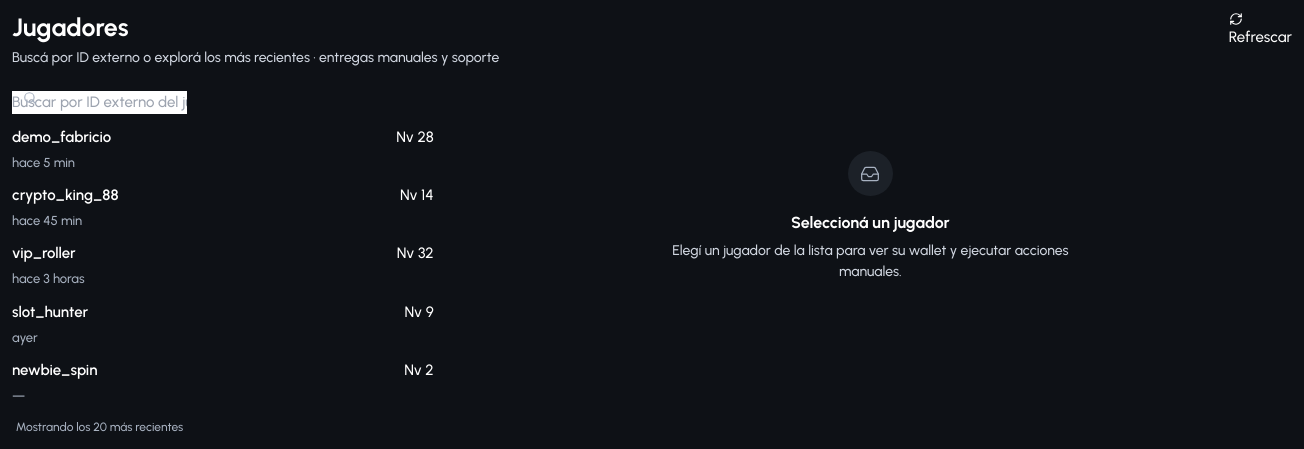
Test: PlayersPage search › limpia búsqueda con botón ✕
The image size is (1304, 449).
Expected: the text "demo_fabricio" is shown, [12,126,111,149]
Type "vip" into the field with placeholder "Buscar por ID externo del jugador..." at (100,103), box [12,91,187,114]
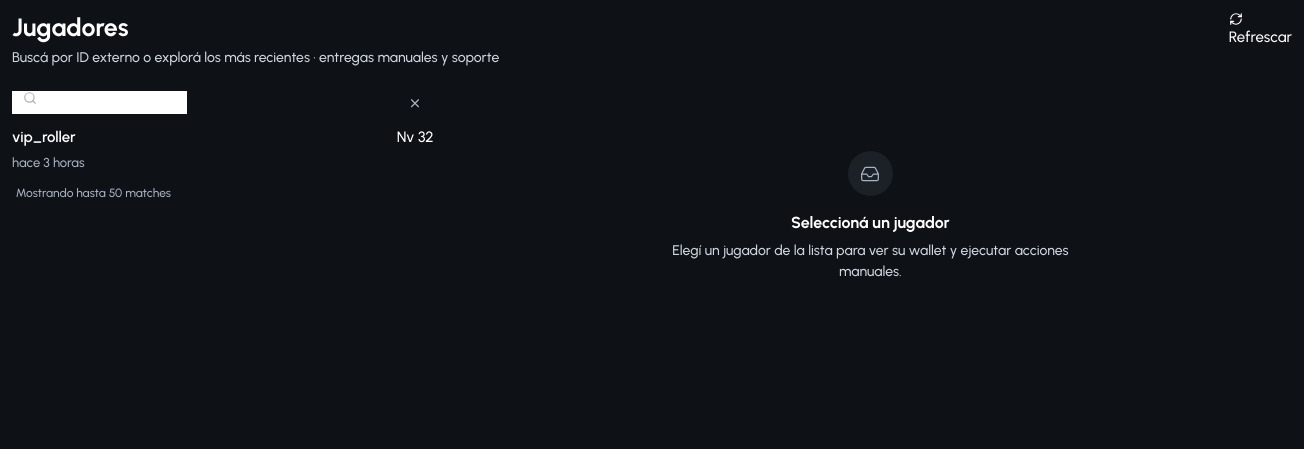
Expected: the button "demo_fabricio" is gone
Click the button named "Limpiar búsqueda" at (415,103), box [405,92,426,114]
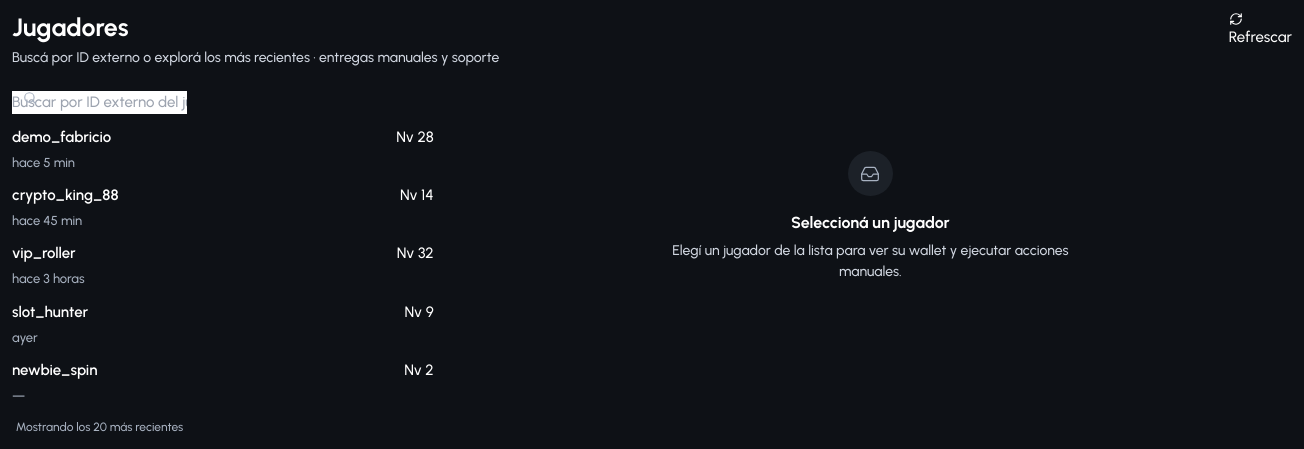
Expected: the text "demo_fabricio" is shown, [12,126,111,149]
